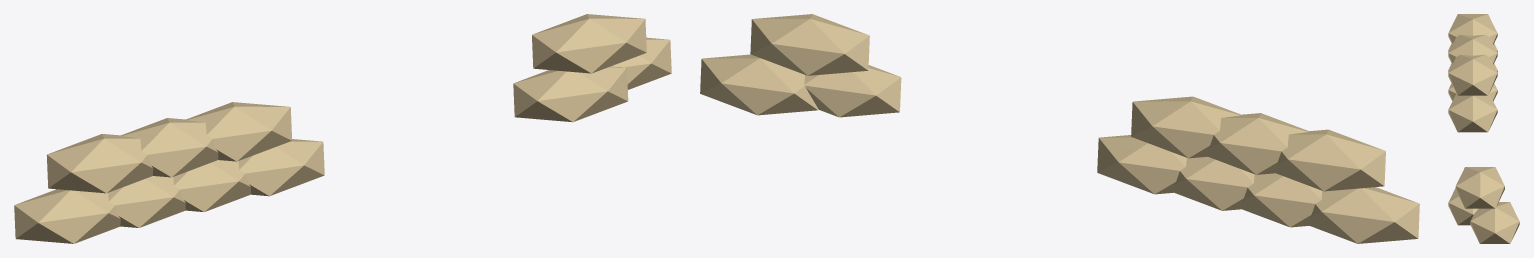
File: karung_pasir_v001.glb
3 views of the same model, side by side, from view 1: azimuth 30°, elevation 25°; view 2: azimuth 150°, elevation 25°; view 3: azimuth 270°, elevation 25° (orthographic). The views are drawn at different scales.
Parts seen in each view (by area): view 1: Karung_Pasir_Dinding, Karung_Pasir_Tumpuk; view 2: Karung_Pasir_Dinding, Karung_Pasir_Tumpuk; view 3: Karung_Pasir_Dinding, Karung_Pasir_Tumpuk.
Boxes of the visible parts, box(x1,y1,x2,y2) form: Karung_Pasir_Dinding: box(14, 102, 324, 243); Karung_Pasir_Tumpuk: box(513, 14, 671, 122); Karung_Pasir_Dinding: box(1097, 96, 1419, 243); Karung_Pasir_Tumpuk: box(700, 14, 901, 117); Karung_Pasir_Dinding: box(1448, 14, 1497, 132); Karung_Pasir_Tumpuk: box(1448, 167, 1519, 243).
Bounding box in the file's own units: 3.3 × 0.4352 × 0.4834.
